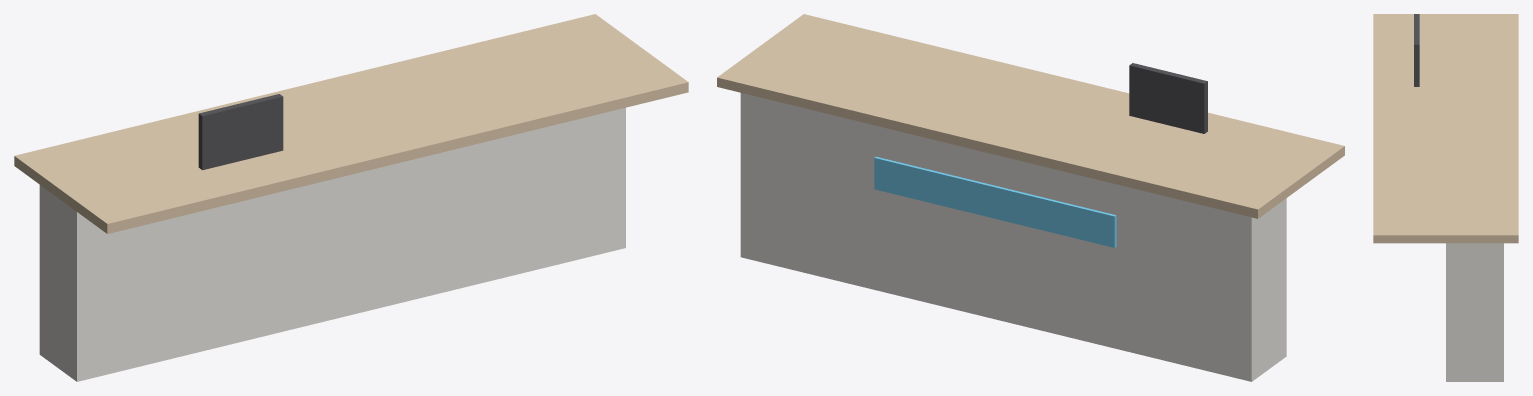
The model's file is ReceptionDesk.fbx.
The picture shows the model from 3 angles, left to right: view 1: azimuth 30°, elevation 25°; view 2: azimuth 150°, elevation 25°; view 3: azimuth 270°, elevation 25°; orthographic projection. The views are drawn at different scales.
Visible parts, largest first — view 1: ReceptionDesk_Mesh; view 2: ReceptionDesk_Mesh; view 3: ReceptionDesk_Mesh.
Boxes of the visible parts, <box> form: ReceptionDesk_Mesh: <box>14,14,688,381</box>; ReceptionDesk_Mesh: <box>717,14,1344,381</box>; ReceptionDesk_Mesh: <box>1373,14,1518,381</box>.
Bounding box in the file's own units: 3.6 × 1 × 1.51.
